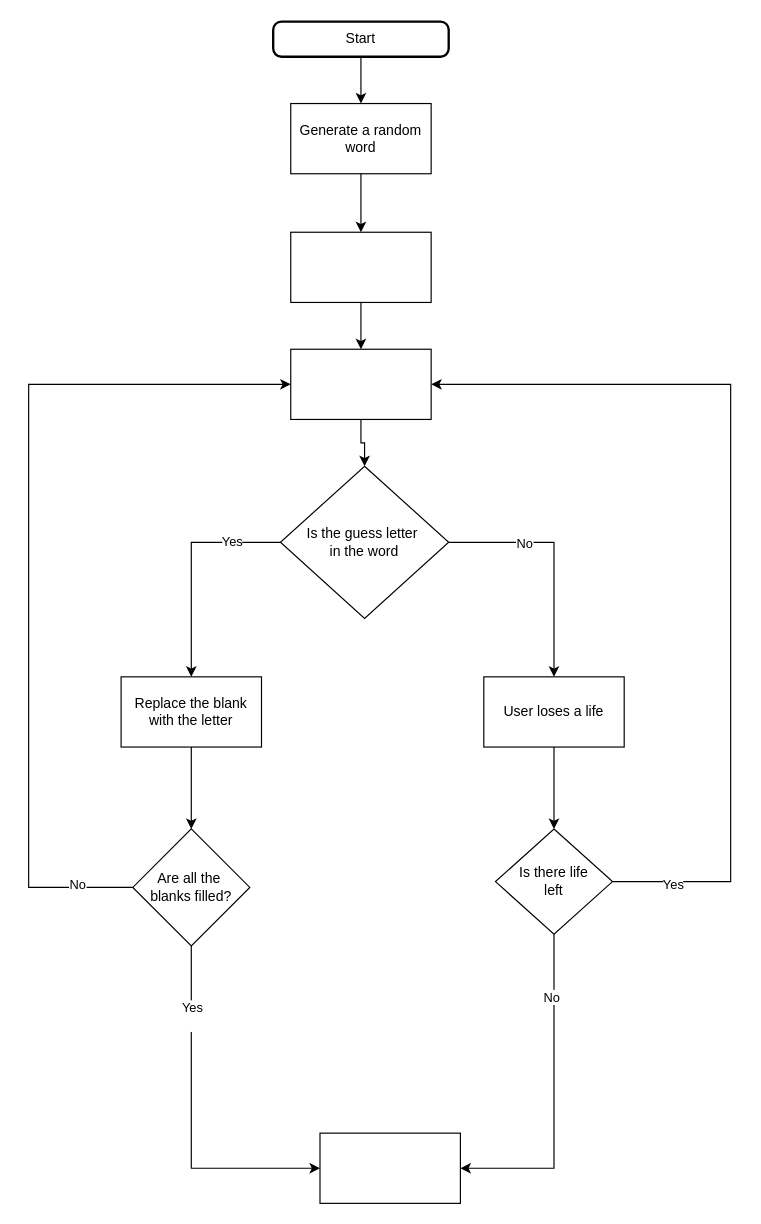
This 761x1224 diagram has some shape labels left out. The shapes that lost their labels are listed below. From the top down, each one's centre as x and y in pixels, then its label:
the point at 360,266: Generate as many blanks as letter in word
the point at 360,383: Ask the user to guess a word
the point at 389,1167: Game Over
